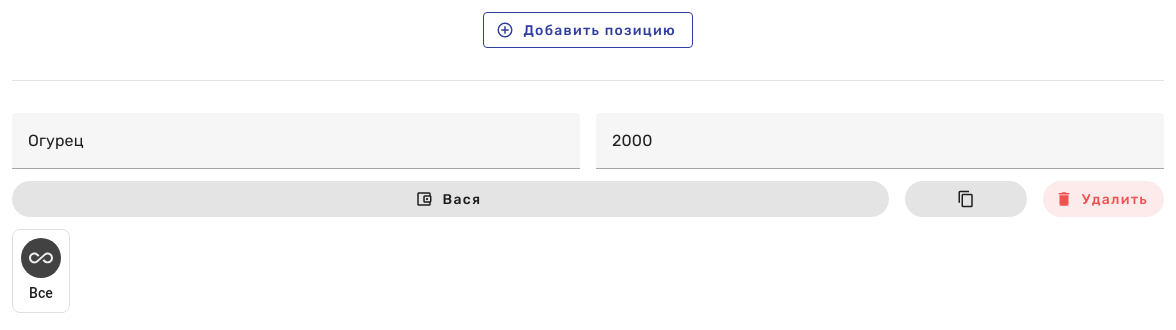
Test: ProductList component › should remove product
Expected: the number of elements with test id "product" is 1, [12, 113, 1164, 313]
Click the button with test id "remove-button".
click(1103, 199)  # box [1042, 181, 1164, 217]
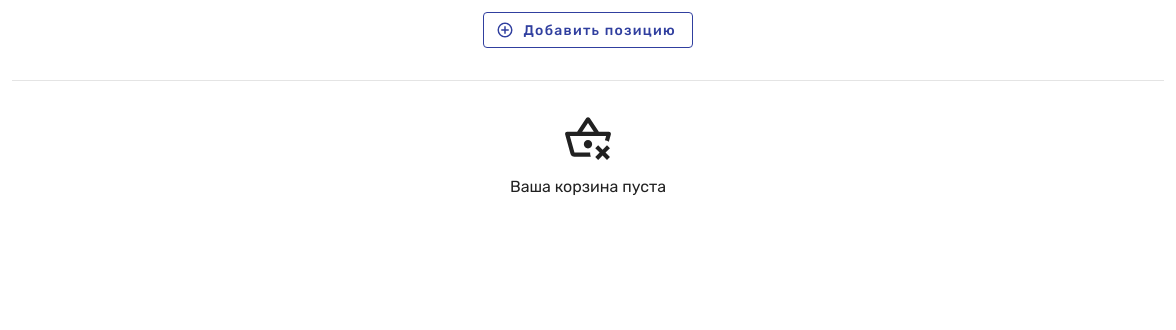
Result: no elements with test id "product" are shown
